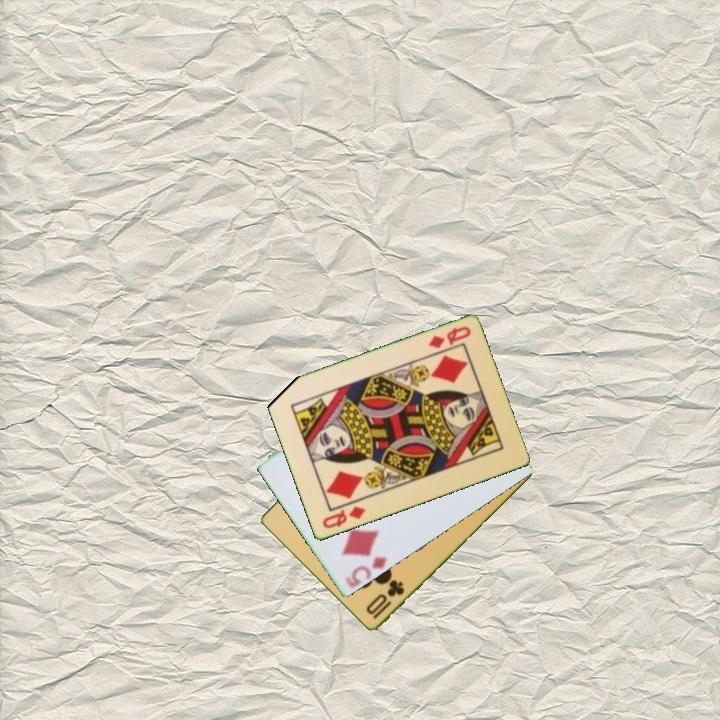10c: (362, 577, 407, 623)
5d: (341, 553, 390, 591)
Qd: (319, 503, 368, 532), (425, 323, 474, 352)
